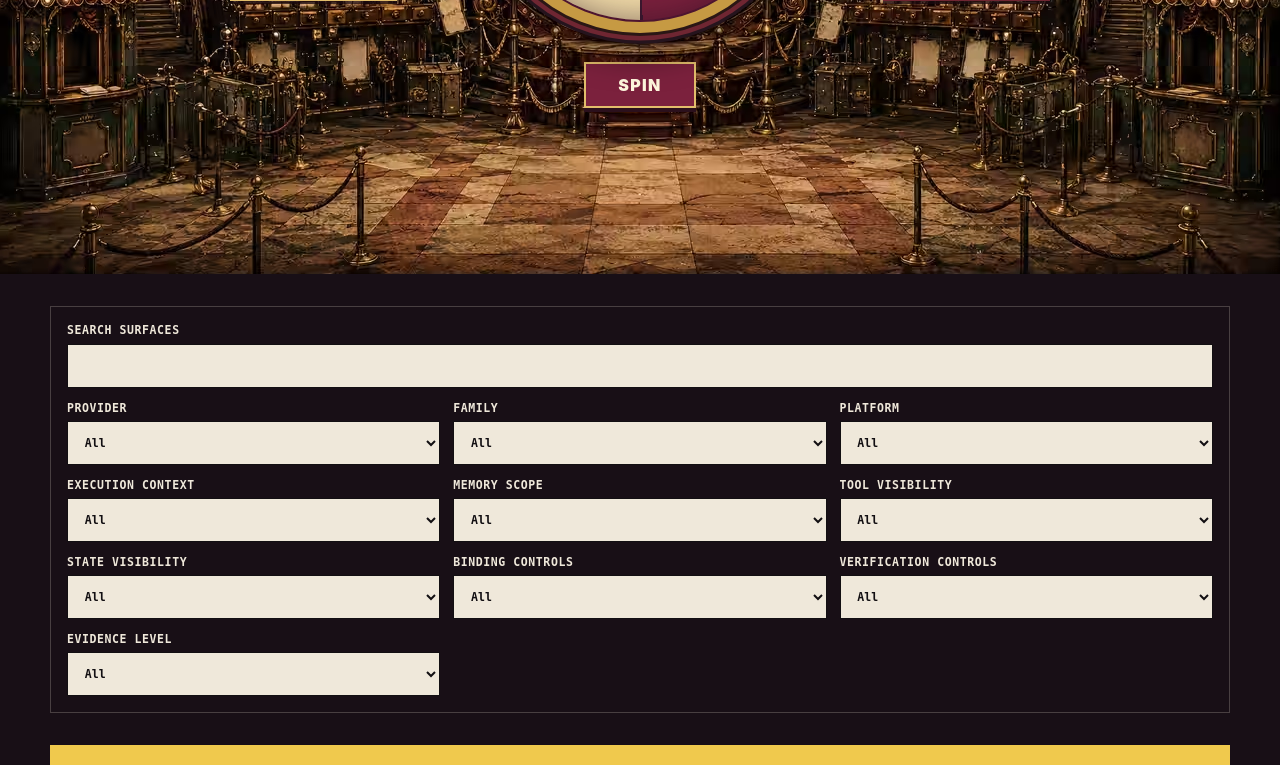
Scenario: shared surface directory › retains the prior URL selection and renders an empty state when no surfaces match
(page scrolled)
Type "no such surface" into the search field labelled "Search surfaces" at (640, 366), box [67,344,1213,388]
(page scrolled)
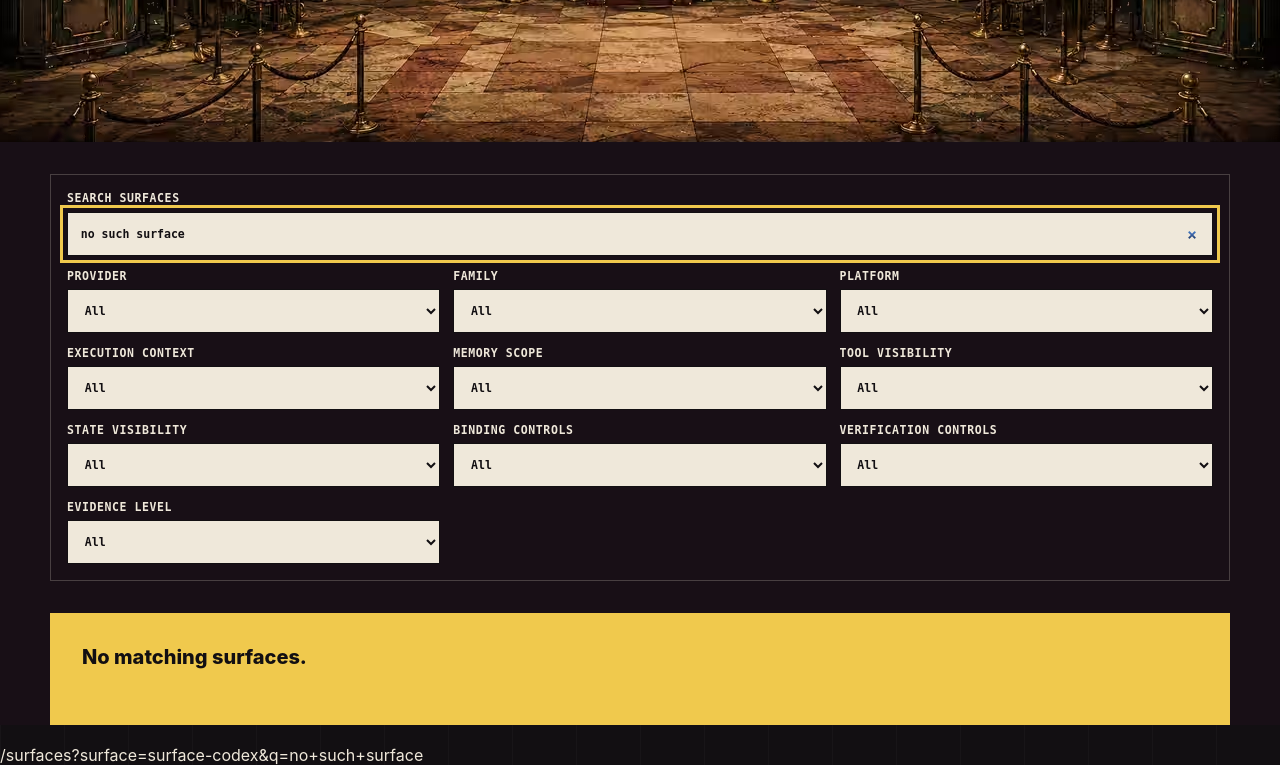
Expected: the text with test id "location" shows "surface=surface-codex", [72,746,423,764]
Expected: the text "No matching surfaces." is shown, [50,614,1230,726]
